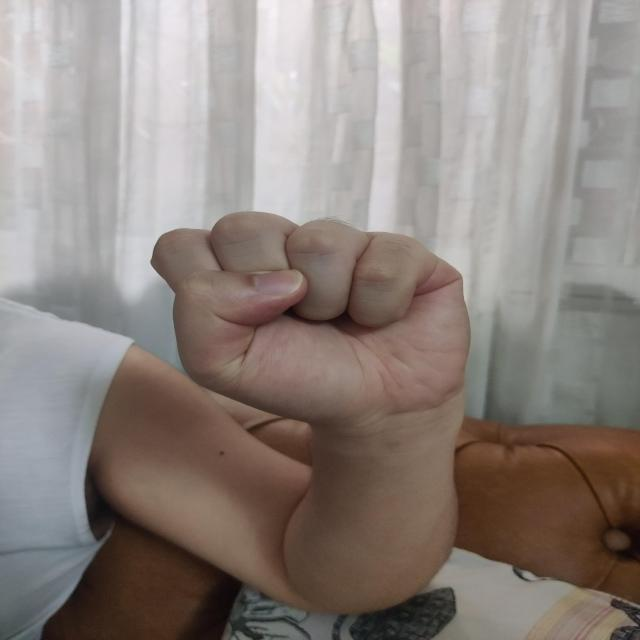S: (148, 209, 473, 425)
